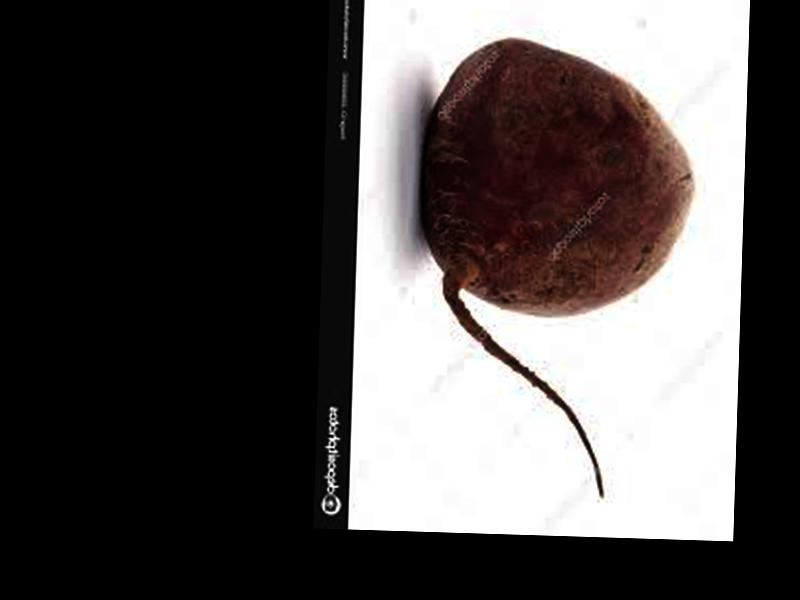Beet: (412, 36, 694, 497)
